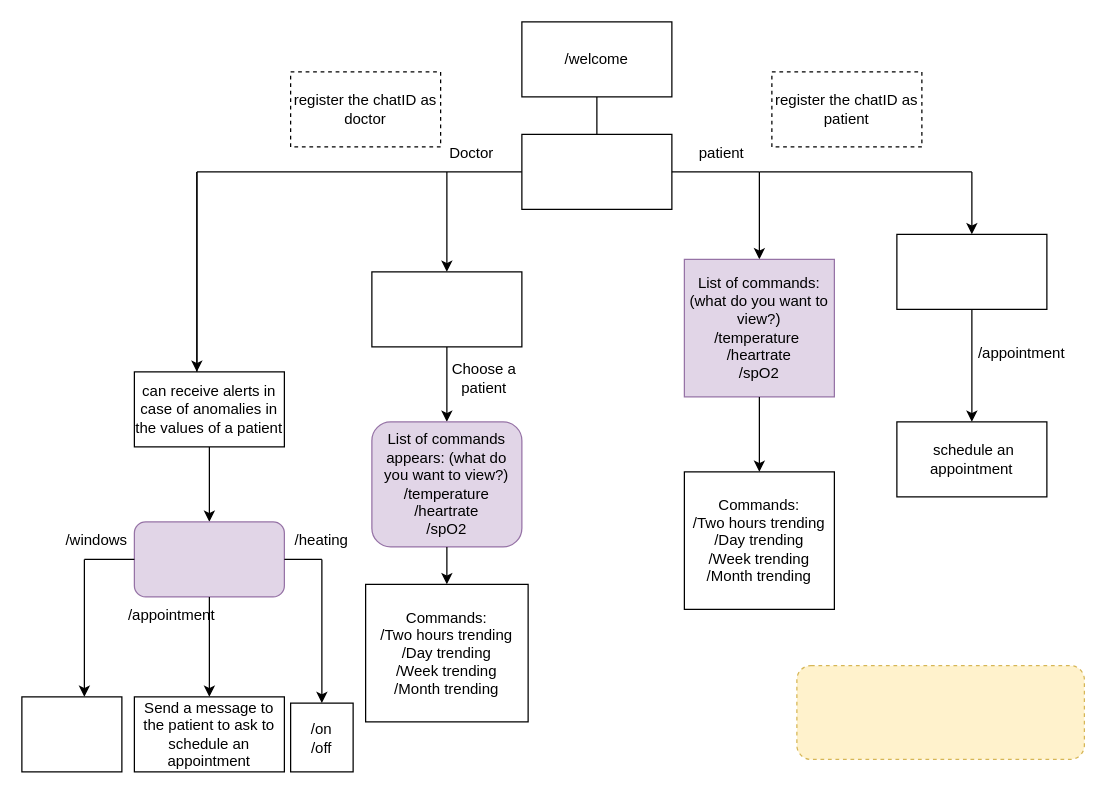
This 1106x794 diagram has some shape labels left out. Each missing label, with the centre of its shape:
/open /close: (71,734)
Are you a doctor or a patient?: (596,171)
can receive alerts in case of anomalies in the values: (971,271)
How to intervene?: (208,559)
Other commands to add? Control of heating and windows also for the patient?: (940,711)
The list of patients appears: (446,309)
